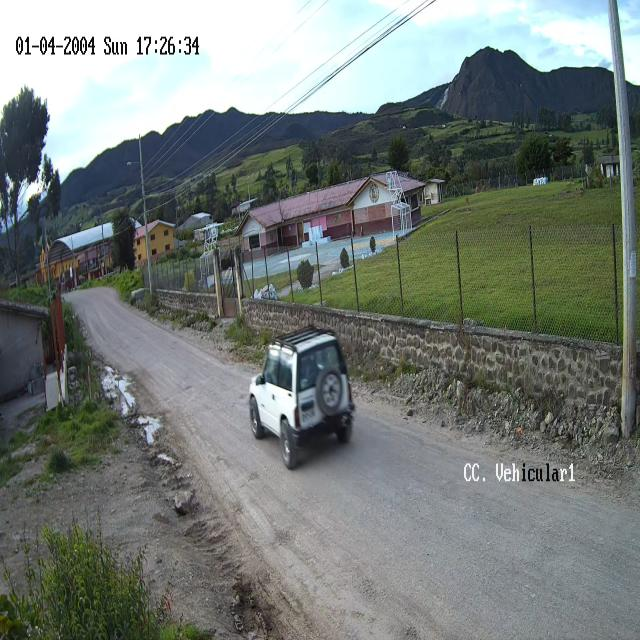SUV: (250, 330, 356, 470)
